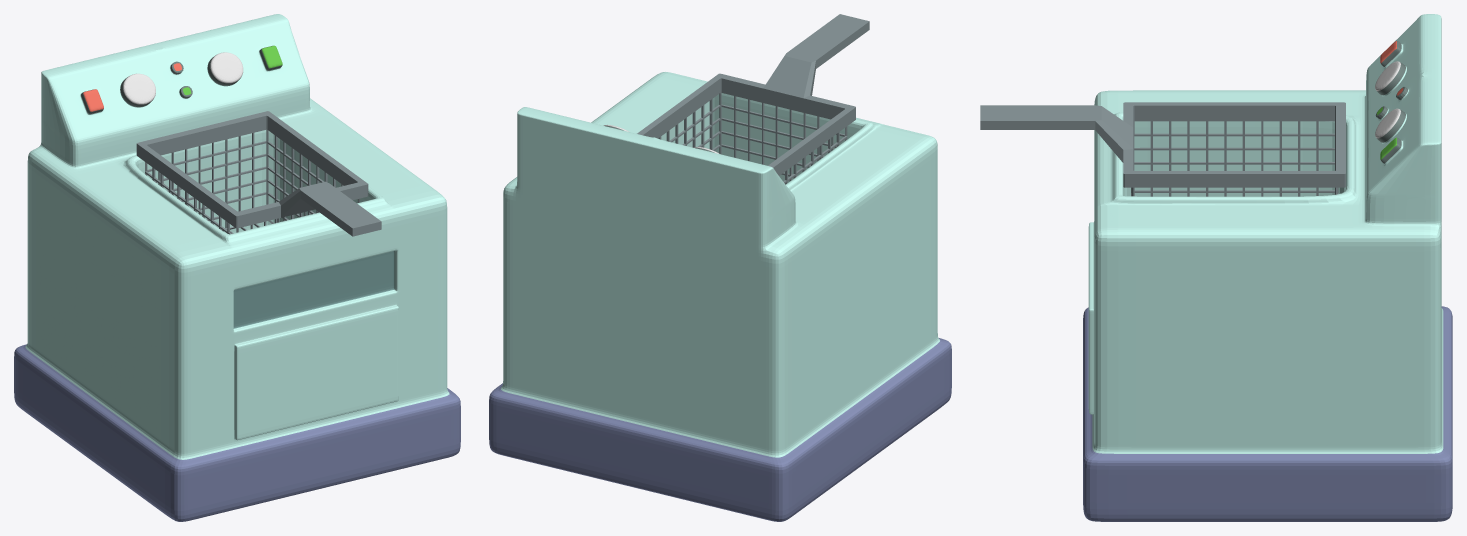
Rendered from Fryer(ani).fbx.
3 renders of one model, left to right at view 1: azimuth 30°, elevation 25°; view 2: azimuth 150°, elevation 25°; view 3: azimuth 270°, elevation 25°, orthographic. The views are drawn at different scales.
Visible parts, largest first — view 1: 큐브.065, 평면.038; view 2: 큐브.065, 평면.038; view 3: 큐브.065, 평면.038.
Boxes of the visible parts, x1,y1,x2,y2 form: 큐브.065: (14, 14, 460, 521); 평면.038: (136, 111, 381, 236); 큐브.065: (489, 72, 951, 521); 평면.038: (637, 14, 869, 184); 큐브.065: (1083, 14, 1452, 521); 평면.038: (980, 102, 1345, 196).
Size of the model in its own units: 315 by 346 by 402.
